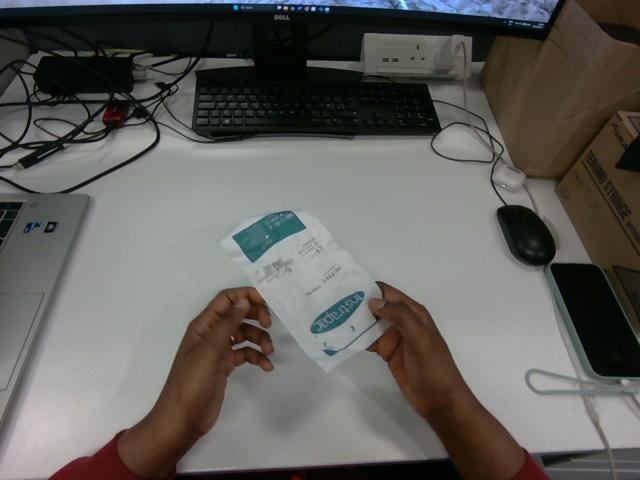gallipot: (220, 210, 388, 371)
